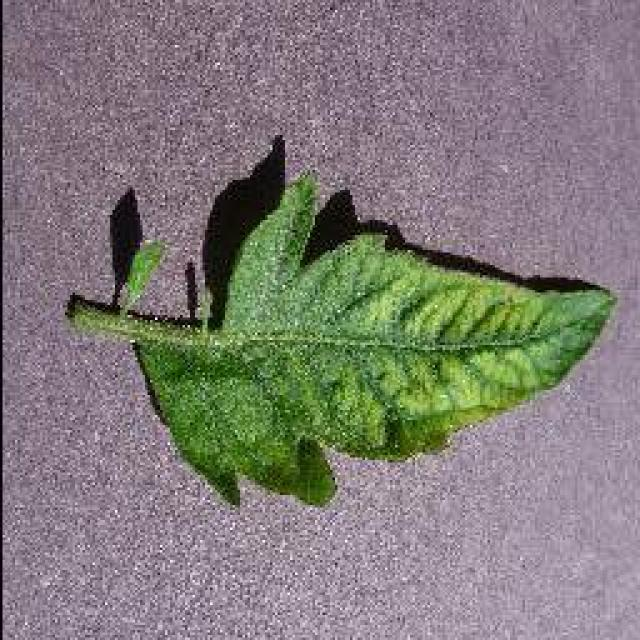Tomato___Tomato_mosaic_virus: (68, 172, 612, 502)
